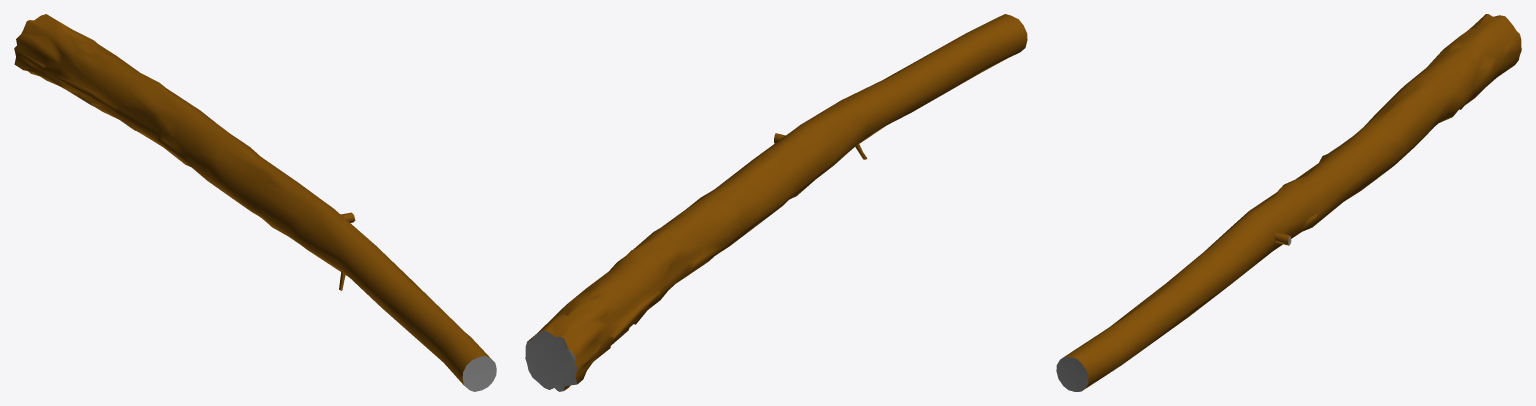
The model's file is Forest_pine_08_Log.FBX.
3 renders of one model, left to right at view 1: azimuth 30°, elevation 25°; view 2: azimuth 150°, elevation 25°; view 3: azimuth 330°, elevation 25°, orthographic. The views are drawn at different scales.
Visible parts, largest first — view 1: Forest_pine_08_Log_LOD0; view 2: Forest_pine_08_Log_LOD0; view 3: Forest_pine_08_Log_LOD0.
Boxes of the visible parts, bbox=[...] form: Forest_pine_08_Log_LOD0: bbox=[14, 14, 496, 391]; Forest_pine_08_Log_LOD0: bbox=[525, 14, 1027, 391]; Forest_pine_08_Log_LOD0: bbox=[1056, 14, 1521, 391].
Size of what is drawn, in the model's own units: 53.63 by 520 by 40.62.
